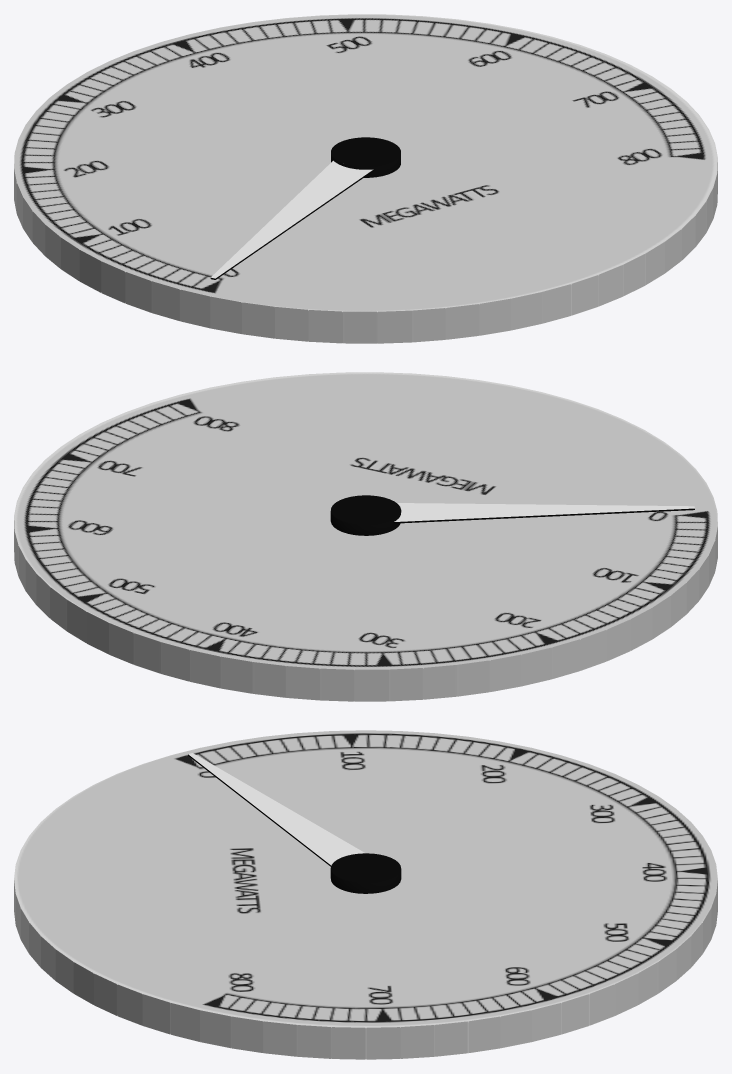
File: AnalogMeter.fbx
3 views of the same model, one above another, from view 1: azimuth 30°, elevation 25°; view 2: azimuth 150°, elevation 25°; view 3: azimuth 270°, elevation 25° (orthographic).
Visible parts, largest first — view 1: AnalogMeter.Base, AnalogMeter.Needle; view 2: AnalogMeter.Base, AnalogMeter.Needle; view 3: AnalogMeter.Base, AnalogMeter.Needle.
Boxes of the visible parts, box(x1,y1,x2,y2) form: AnalogMeter.Base: box(14, 14, 717, 343); AnalogMeter.Needle: box(210, 137, 400, 279); AnalogMeter.Base: box(14, 372, 717, 701); AnalogMeter.Needle: box(330, 495, 694, 535); AnalogMeter.Base: box(14, 730, 717, 1059); AnalogMeter.Needle: box(188, 753, 401, 893).
Size of the model in its own units: 2 by 0.1339 by 2.
Materials: 2 (2 with a texture image).
